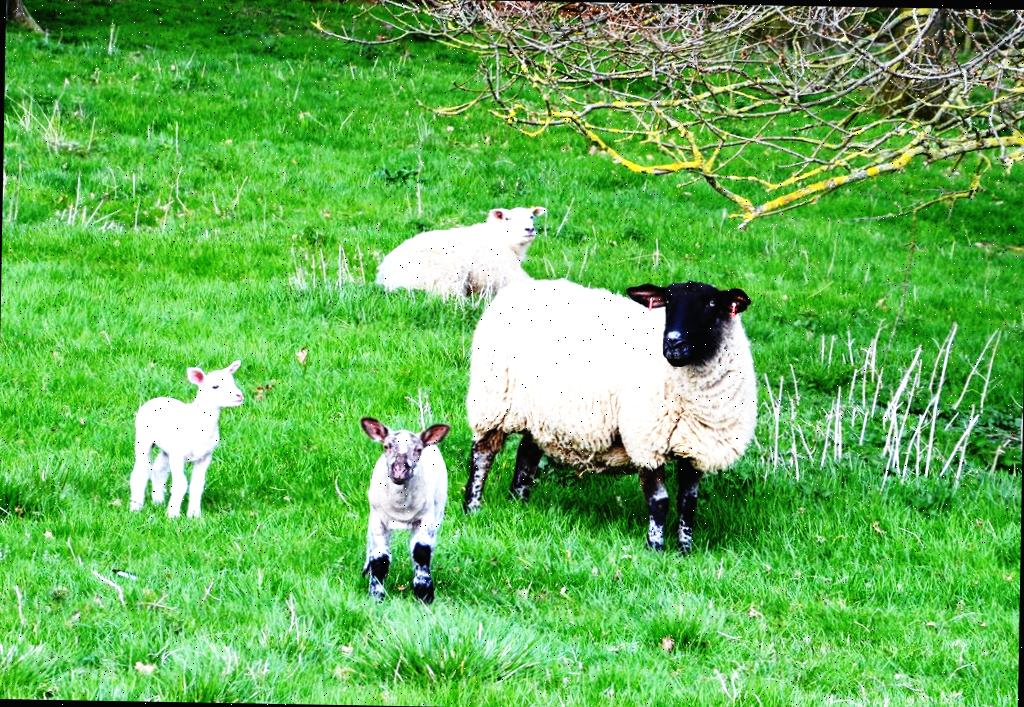Sheep: (464, 276, 760, 552), (354, 416, 458, 604), (126, 361, 245, 520), (378, 203, 548, 295)
